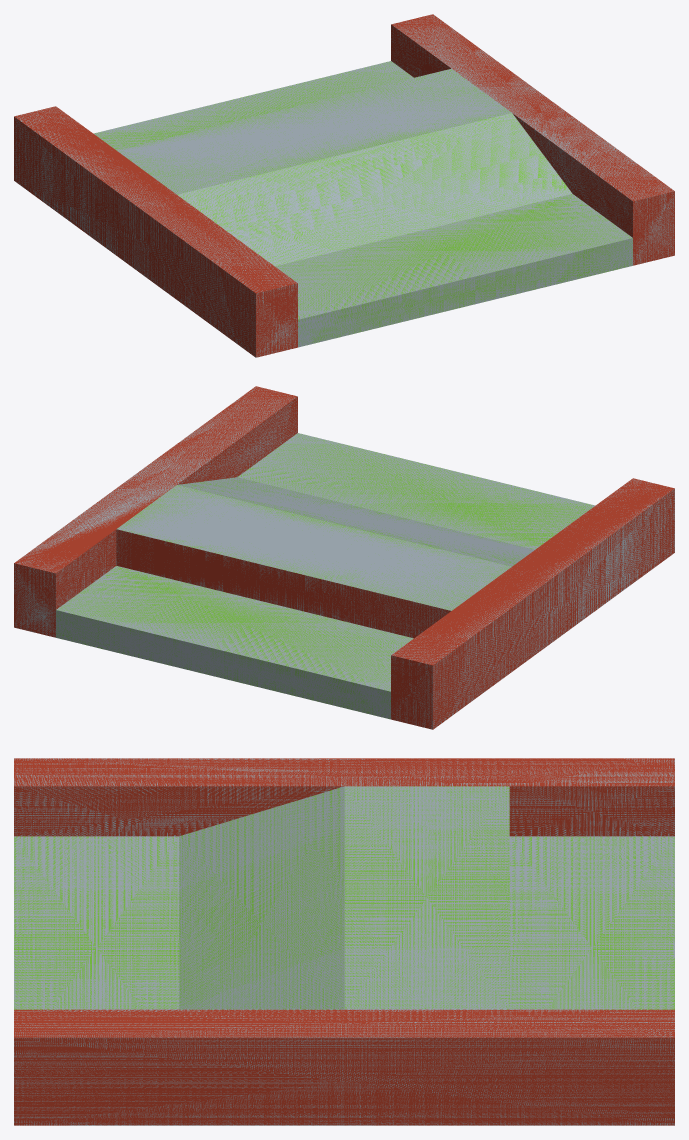
The model's file is Ramp_square_01.obj.
3 renders of one model, top to bottom at view 1: azimuth 30°, elevation 25°; view 2: azimuth 150°, elevation 25°; view 3: azimuth 270°, elevation 25°, orthographic. The views are drawn at different scales.
Parts seen in each view (by area): view 1: Mesh1 Ramp_square Model; view 2: Mesh1 Ramp_square Model; view 3: Mesh1 Ramp_square Model.
Boxes of the visible parts, bbox=[...] form: Mesh1 Ramp_square Model: bbox=[14, 14, 674, 357]; Mesh1 Ramp_square Model: bbox=[14, 386, 674, 729]; Mesh1 Ramp_square Model: bbox=[14, 758, 674, 1125].
Size of the model in its own units: 3 by 0.44 by 3.
